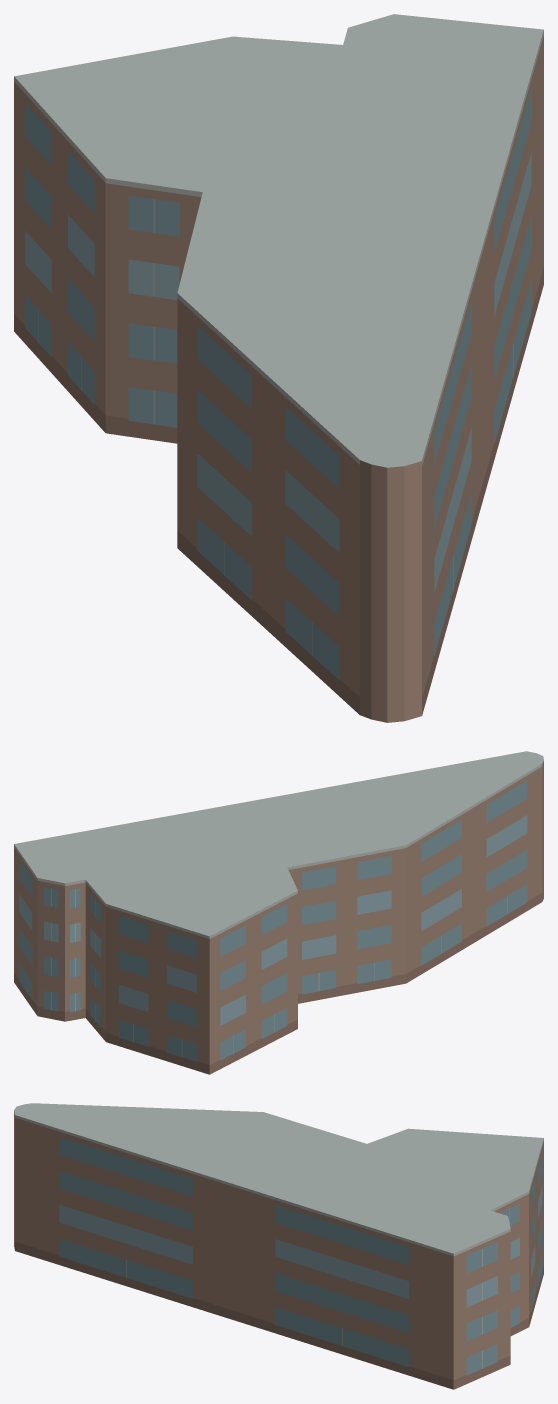
Rendered from residential-dae0bb36-3374-4596-abec-e40ea2350981.glb.
The picture shows the model from 3 angles, top to bottom: view 1: azimuth 30°, elevation 25°; view 2: azimuth 150°, elevation 25°; view 3: azimuth 270°, elevation 25°; orthographic projection. The views are drawn at different scales.
Visible parts, largest first — view 1: residential-dae0bb36-3374-4596-abec-e40ea2350981.tmp; view 2: residential-dae0bb36-3374-4596-abec-e40ea2350981.tmp; view 3: residential-dae0bb36-3374-4596-abec-e40ea2350981.tmp.
Part boxes in pixels (<box>): residential-dae0bb36-3374-4596-abec-e40ea2350981.tmp: <box>14,14,543,722</box>; residential-dae0bb36-3374-4596-abec-e40ea2350981.tmp: <box>14,751,543,1074</box>; residential-dae0bb36-3374-4596-abec-e40ea2350981.tmp: <box>14,1103,543,1389</box>.
Bounding box in the file's own units: 28.99 × 12.2 × 43.09.
